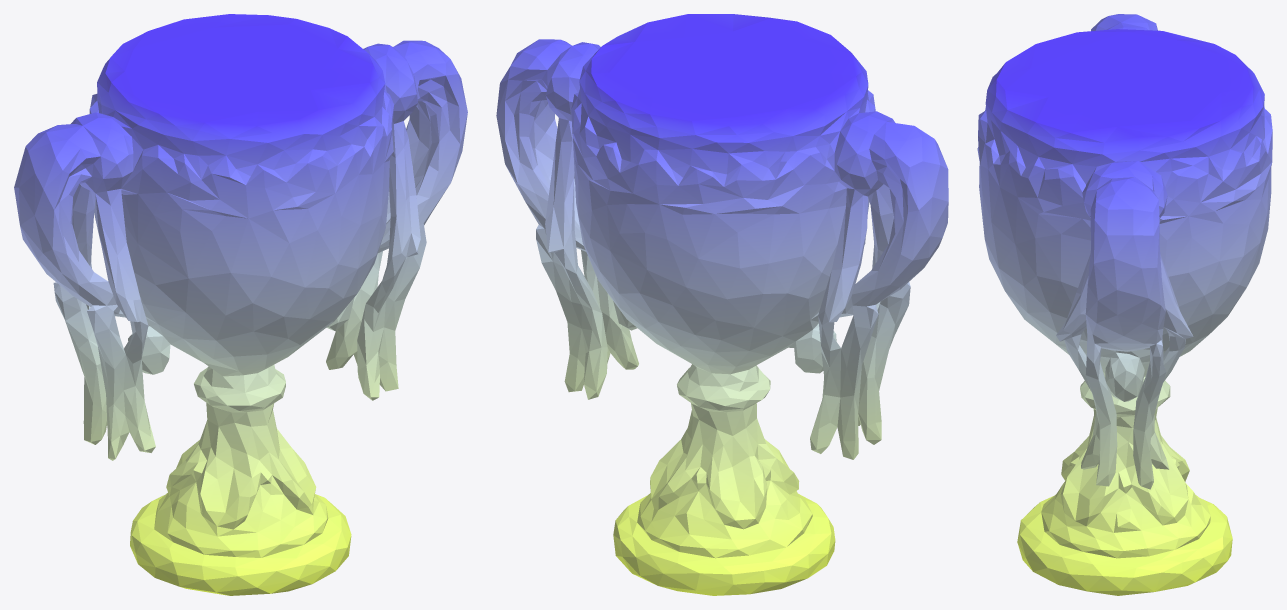
File: 71_cyb_laser_gradient_fish_scales_2910_2026_10_03_16dc76.glb
3 views of the same model, side by side, from view 1: azimuth 30°, elevation 25°; view 2: azimuth 150°, elevation 25°; view 3: azimuth 270°, elevation 25° (orthographic). The views are drawn at different scales.
Visible parts, largest first — view 1: geometry_0; view 2: geometry_0; view 3: geometry_0.
Part boxes in pixels (x1,y1,x2,y2): geometry_0: (14, 14, 467, 595); geometry_0: (496, 14, 948, 595); geometry_0: (977, 14, 1272, 595).
Size of the model in its own units: 0.9347 by 1 by 0.569.
